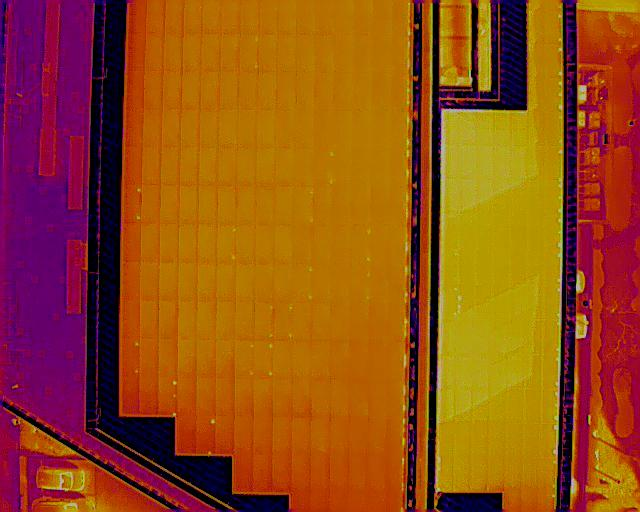Cell-Multi: (239, 32, 260, 73), (313, 148, 334, 187), (217, 223, 237, 263), (293, 187, 314, 225), (293, 263, 314, 301), (274, 302, 294, 341), (197, 416, 217, 455), (255, 301, 274, 341), (353, 223, 372, 263), (255, 339, 274, 378), (158, 376, 177, 415), (235, 340, 254, 378), (123, 184, 142, 222), (122, 338, 140, 377)
No-Anomaly: (201, 32, 222, 73), (314, 224, 335, 265), (333, 148, 354, 188), (349, 300, 369, 341), (293, 301, 313, 342), (163, 68, 183, 109), (348, 380, 369, 419), (144, 31, 165, 70), (293, 224, 314, 263), (235, 301, 256, 340), (315, 72, 336, 111), (365, 418, 387, 455), (273, 377, 293, 417), (177, 414, 197, 454), (182, 31, 202, 71), (238, 186, 258, 226), (179, 223, 199, 263), (158, 300, 178, 340), (219, 70, 239, 110), (277, 71, 297, 111), (349, 341, 370, 379), (234, 417, 255, 455), (365, 455, 386, 493), (257, 72, 278, 110), (346, 419, 368, 455), (235, 378, 255, 417), (162, 108, 182, 147), (219, 109, 239, 148), (372, 109, 392, 148), (177, 340, 197, 379), (215, 377, 235, 416), (273, 417, 293, 456), (311, 418, 331, 457), (259, 33, 279, 72), (335, 34, 355, 73), (278, 33, 298, 72), (218, 147, 238, 186), (160, 185, 180, 224), (256, 186, 276, 225), (236, 224, 256, 263), (178, 262, 198, 301), (236, 263, 256, 302), (316, 34, 336, 73), (143, 70, 163, 109), (217, 263, 237, 302), (275, 146, 294, 187), (313, 301, 332, 342), (197, 338, 216, 379), (314, 111, 335, 148), (314, 187, 335, 224), (276, 110, 296, 148), (160, 147, 180, 185), (257, 146, 276, 186), (139, 339, 159, 377), (158, 339, 178, 377), (196, 378, 216, 416), (254, 377, 273, 417), (312, 378, 331, 418), (334, 109, 354, 147), (220, 34, 240, 72), (333, 224, 352, 264), (352, 148, 371, 188), (179, 185, 199, 223), (141, 223, 160, 263), (197, 301, 217, 339), (330, 302, 350, 340), (354, 34, 374, 72), (200, 71, 220, 109), (296, 71, 315, 111), (335, 72, 355, 110), (239, 70, 258, 110), (200, 109, 219, 148), (199, 147, 218, 186), (238, 147, 257, 186), (254, 417, 273, 456), (292, 417, 311, 456), (374, 33, 393, 72), (255, 263, 274, 302), (160, 223, 179, 262), (294, 148, 313, 187), (218, 185, 237, 224), (274, 263, 293, 302), (178, 301, 197, 340), (181, 71, 200, 110), (143, 109, 163, 146), (257, 110, 277, 147), (329, 419, 349, 456), (273, 455, 293, 492), (371, 148, 389, 189), (124, 108, 143, 146), (239, 109, 258, 147), (142, 146, 161, 184), (181, 147, 200, 185), (216, 340, 235, 378), (274, 340, 293, 378), (330, 341, 349, 379), (139, 376, 158, 414), (177, 378, 196, 416), (163, 31, 182, 69), (126, 32, 145, 70), (181, 109, 200, 147), (124, 146, 143, 184), (142, 185, 161, 223), (199, 185, 218, 223), (160, 262, 179, 300), (141, 263, 160, 301), (297, 35, 316, 73), (374, 72, 393, 110), (140, 301, 159, 339), (293, 378, 311, 418), (235, 456, 255, 492), (199, 223, 217, 263), (388, 224, 406, 264), (295, 111, 314, 148), (312, 343, 331, 380), (256, 225, 275, 262), (313, 264, 332, 301), (354, 72, 373, 109), (354, 108, 372, 147), (368, 380, 386, 419), (275, 186, 293, 225), (388, 148, 406, 187), (371, 224, 389, 263), (122, 261, 140, 300), (386, 300, 404, 339), (126, 69, 144, 108), (239, 0, 260, 33), (368, 341, 386, 379), (385, 379, 403, 417), (384, 456, 403, 492), (311, 457, 330, 493), (292, 456, 311, 492), (335, 187, 354, 223), (275, 224, 293, 262), (199, 263, 217, 301), (297, 0, 317, 34), (124, 223, 141, 263), (350, 264, 370, 298), (369, 300, 386, 340), (330, 456, 348, 493), (293, 340, 311, 377), (217, 302, 235, 339), (383, 419, 402, 454), (371, 188, 390, 223), (331, 380, 348, 419), (349, 455, 366, 494), (216, 416, 233, 455), (123, 299, 140, 338), (259, 0, 279, 33), (254, 455, 272, 491), (122, 376, 139, 414), (336, 0, 355, 34), (386, 341, 403, 379), (353, 188, 372, 222), (183, 0, 202, 33), (278, 0, 297, 33), (374, 0, 393, 33), (355, 0, 373, 34), (387, 264, 405, 298), (317, 0, 335, 34), (370, 265, 388, 299), (333, 265, 350, 301), (146, 0, 165, 32), (202, 0, 221, 32), (392, 34, 408, 72), (221, 0, 239, 33), (392, 110, 407, 149), (128, 0, 146, 32), (165, 0, 183, 32), (390, 188, 406, 224), (392, 0, 409, 33), (393, 73, 407, 108)
